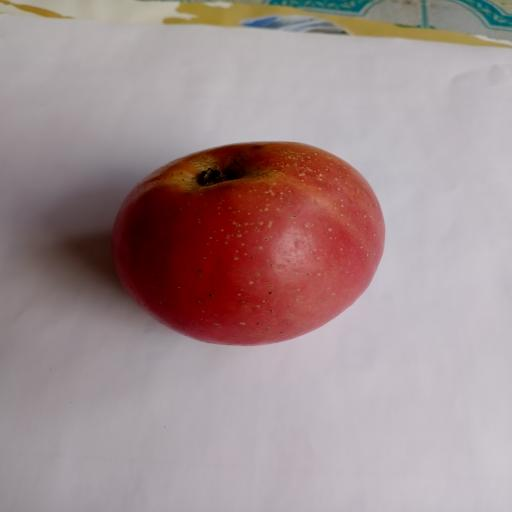apple-ripe: (102, 130, 401, 352)
